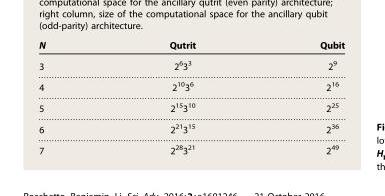table: (38, 38, 344, 155)
table column: (106, 38, 257, 155), (257, 38, 344, 155), (38, 38, 106, 155)
table column header: (38, 38, 344, 54)
table row: (38, 54, 344, 75), (38, 75, 344, 96), (38, 96, 344, 117), (38, 117, 344, 138), (38, 138, 344, 155), (38, 38, 344, 54)
